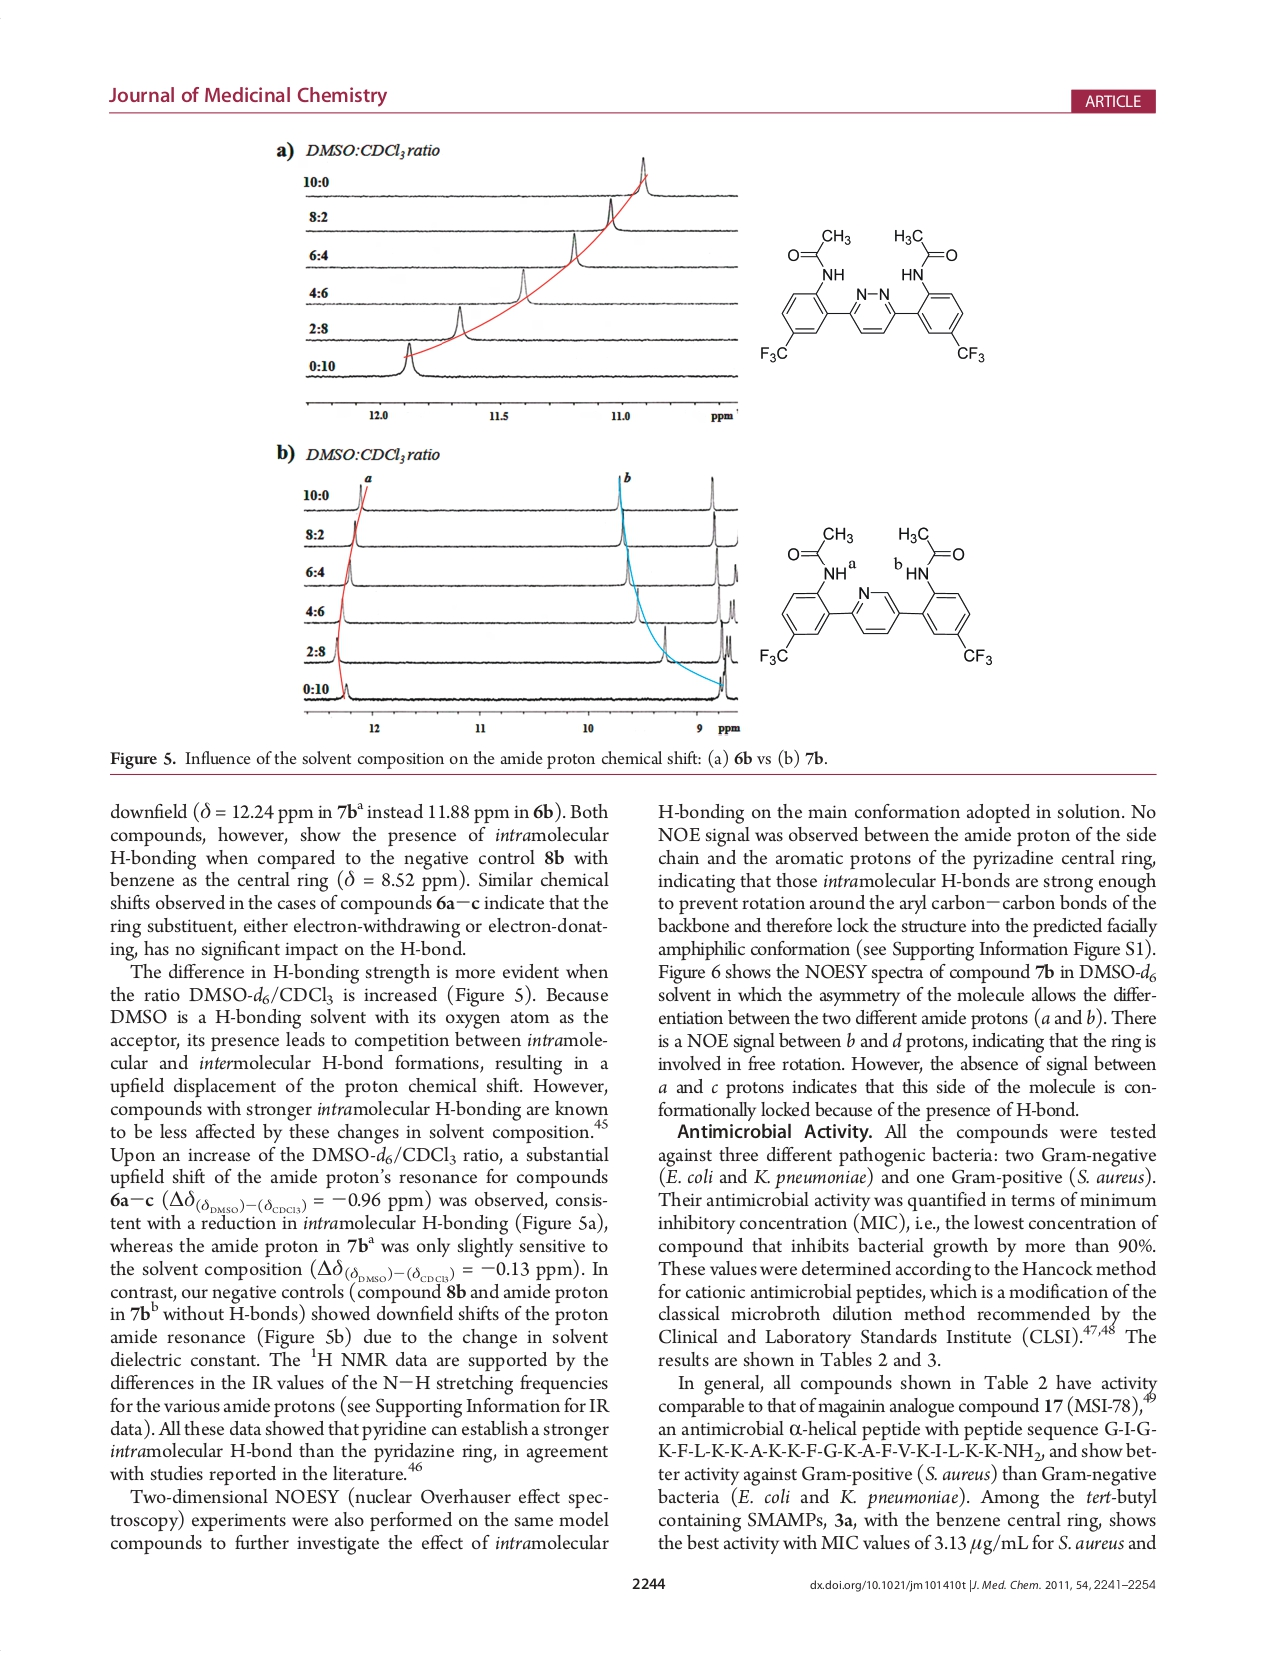exist_molecular: (754, 523, 999, 674), (751, 223, 985, 367)
